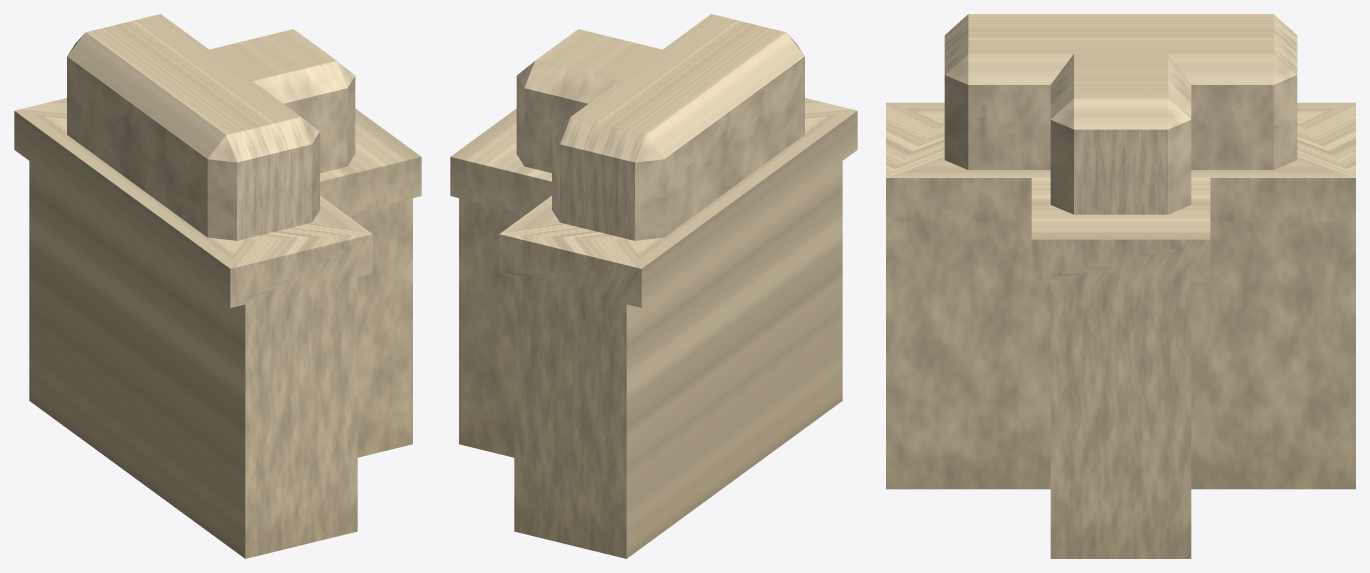
Rendered from wall_tri_base.glb.
The picture shows the model from 3 angles, left to right: view 1: azimuth 30°, elevation 25°; view 2: azimuth 150°, elevation 25°; view 3: azimuth 270°, elevation 25°; orthographic projection. The views are drawn at different scales.
Visible parts, largest first — view 1: wall; view 2: wall; view 3: wall.
Part boxes in pixels (left/top/right/bottom): wall: left=14, top=14, right=421, bottom=558; wall: left=450, top=14, right=857, bottom=558; wall: left=886, top=14, right=1355, bottom=558.
Bounding box in the file's own units: 0.69 × 1 × 1.
1 material, 1 textured.
